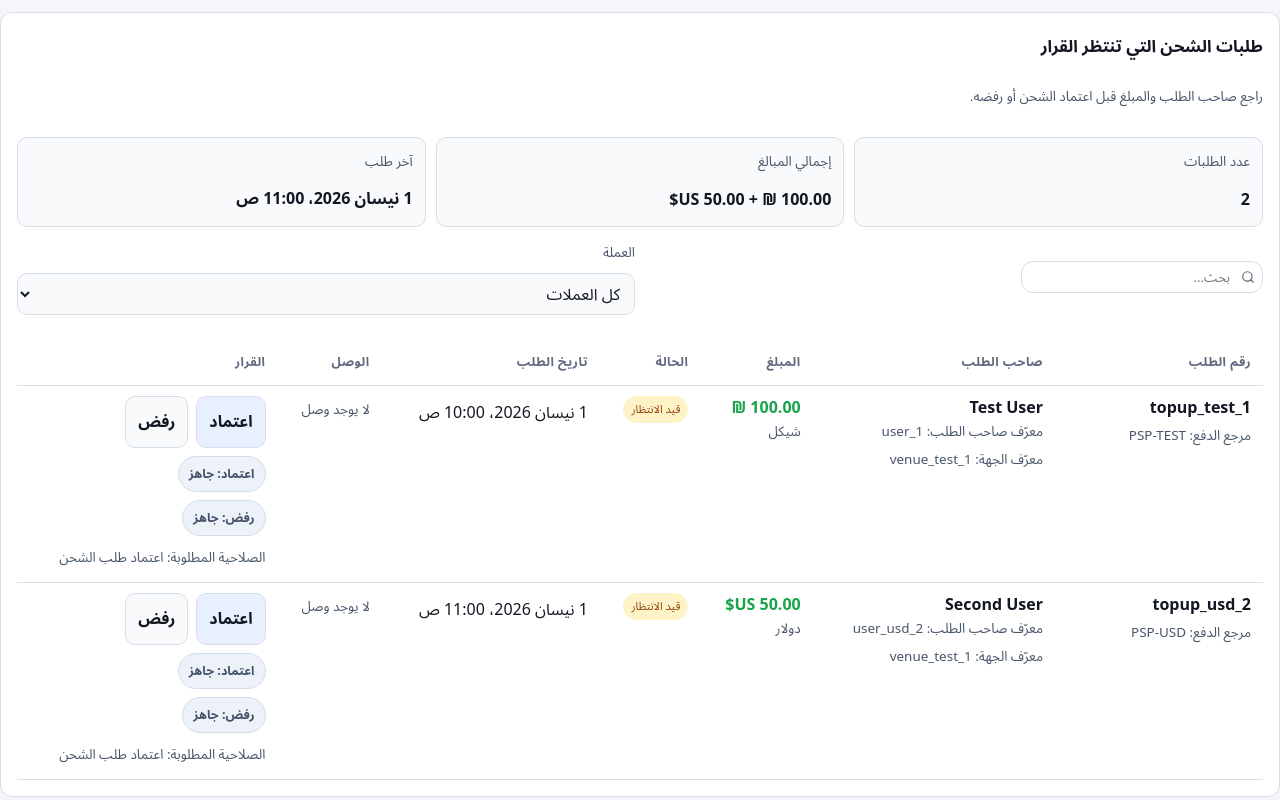
Test: finance command surfaces › filters top-up rows through search and shows empty state when no row matches
Type "Second" into the search field with placeholder "بحث..." at (1142, 277), box [1021, 261, 1263, 293]
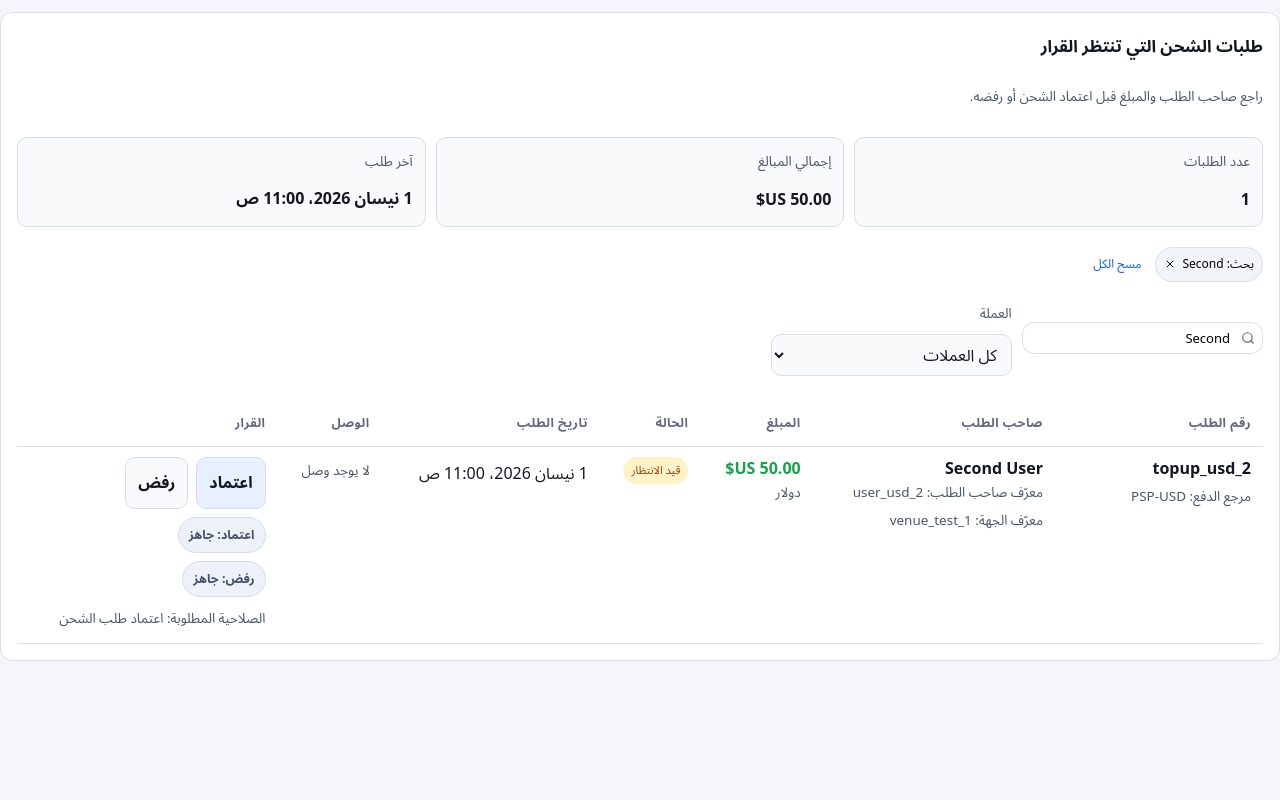
Expected: the text "topup_usd_2" is shown, [1152, 457, 1251, 479]
Result: the text "topup_test_1" is gone
Replace the text in the search field with placeholder "بحث..." with "missing-value" at (1142, 338), box [1022, 322, 1263, 354]
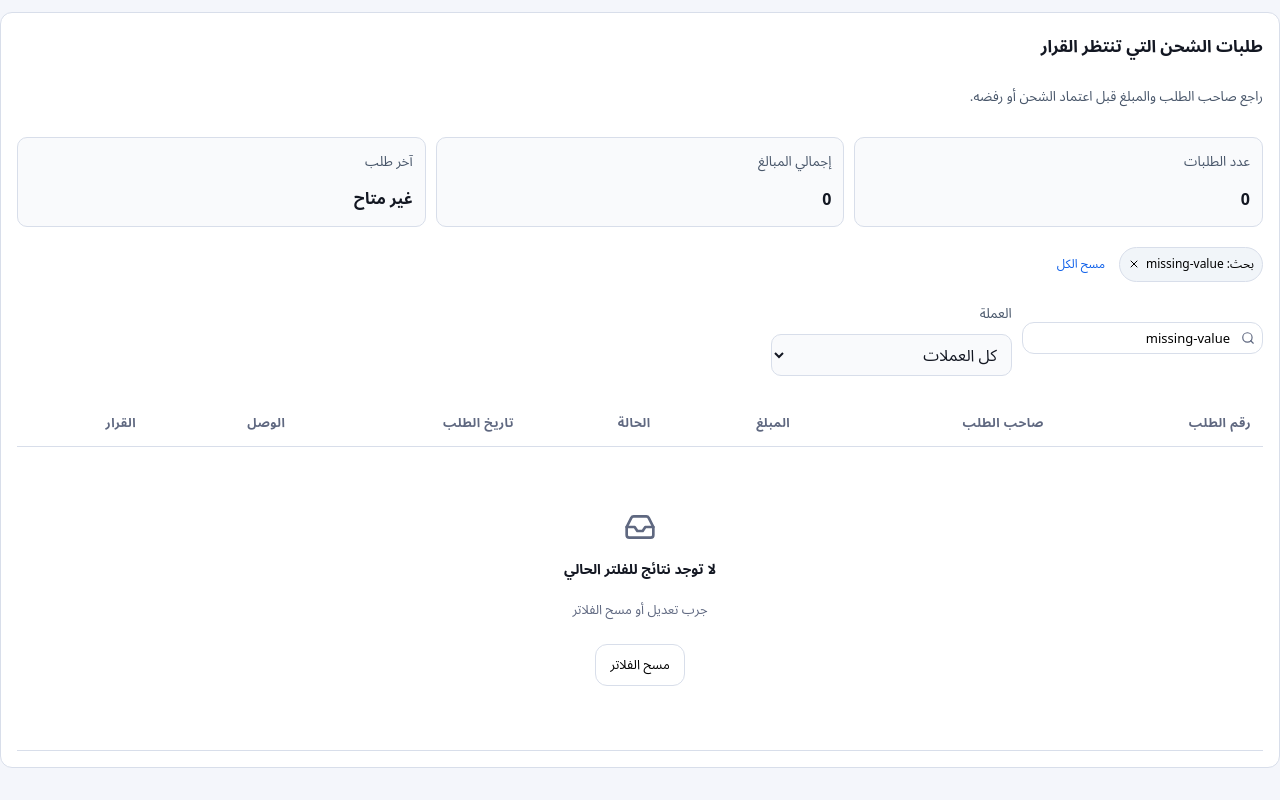
Result: the text "لا توجد نتائج للفلتر الحالي" is shown at [564, 555, 716, 584]
